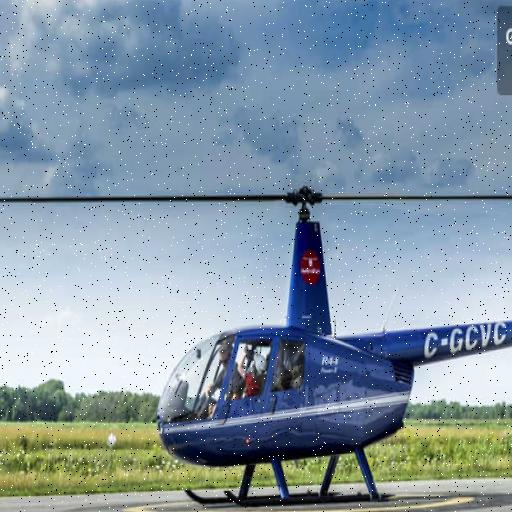helicopter: (1, 168, 512, 512)
